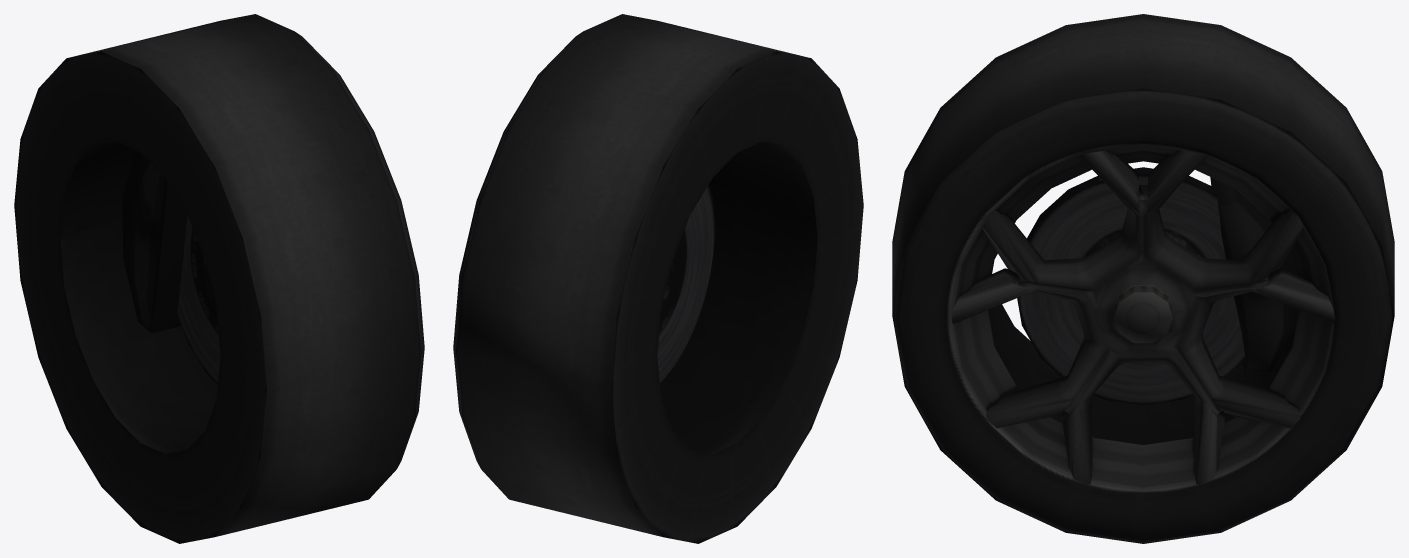
File: WP29_wheelpack.glb
3 views of the same model, side by side, from view 1: azimuth 30°, elevation 25°; view 2: azimuth 150°, elevation 25°; view 3: azimuth 270°, elevation 25° (orthographic).
Parts seen in each view (by area): view 1: MOD_ND_WP29_tyre, MOD_ND_WP29_rim, MOD_ND_WP29_brakes; view 2: MOD_ND_WP29_tyre, MOD_ND_WP29_rim, MOD_ND_WP29_brakes; view 3: MOD_ND_WP29_tyre, MOD_ND_WP29_rim, MOD_ND_WP29_brakes.
Part boxes in pixels (bbox=[...]): MOD_ND_WP29_tyre: bbox=[14, 14, 424, 543]; MOD_ND_WP29_rim: bbox=[60, 141, 217, 453]; MOD_ND_WP29_brakes: bbox=[122, 150, 220, 384]; MOD_ND_WP29_tyre: bbox=[453, 14, 863, 543]; MOD_ND_WP29_rim: bbox=[660, 141, 817, 453]; MOD_ND_WP29_brakes: bbox=[657, 184, 715, 384]; MOD_ND_WP29_tyre: bbox=[892, 14, 1394, 543]; MOD_ND_WP29_rim: bbox=[946, 141, 1340, 499]; MOD_ND_WP29_brakes: bbox=[1017, 167, 1298, 405].
Bounding box in the file's own units: 0.2421 × 0.6414 × 0.6414.
Materials: 2 (2 with a texture image).
